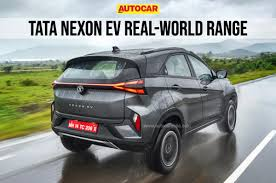Tata Nexon: (50, 43, 239, 173)
